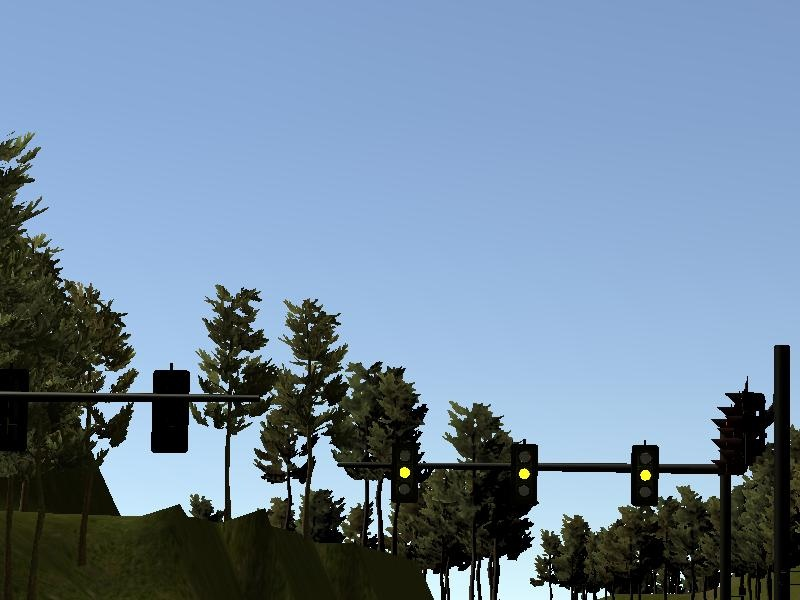yellow: (625, 438, 662, 508), (388, 438, 424, 506), (508, 439, 539, 508)
